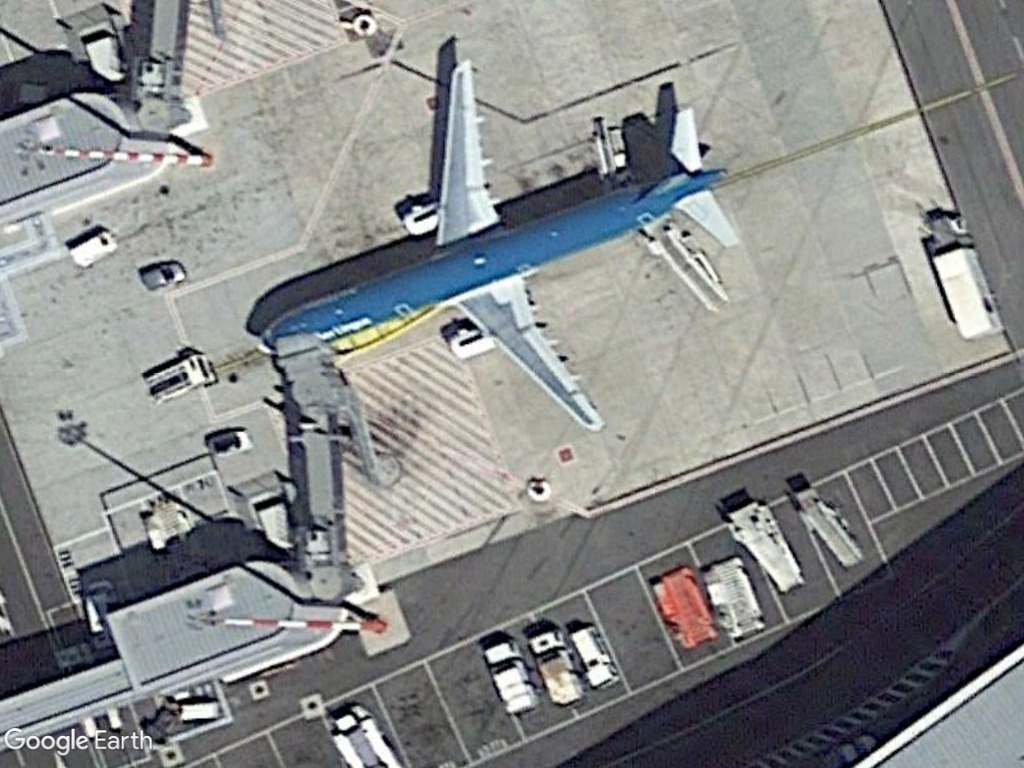airliner: (247, 51, 750, 439)
car: (135, 261, 189, 291)
pushbacktruck: (699, 548, 765, 643), (648, 562, 714, 649)
stairtruck: (720, 498, 808, 594), (786, 482, 872, 573), (136, 352, 219, 404)
truck: (916, 212, 1006, 343), (526, 624, 592, 711), (479, 640, 539, 717)
